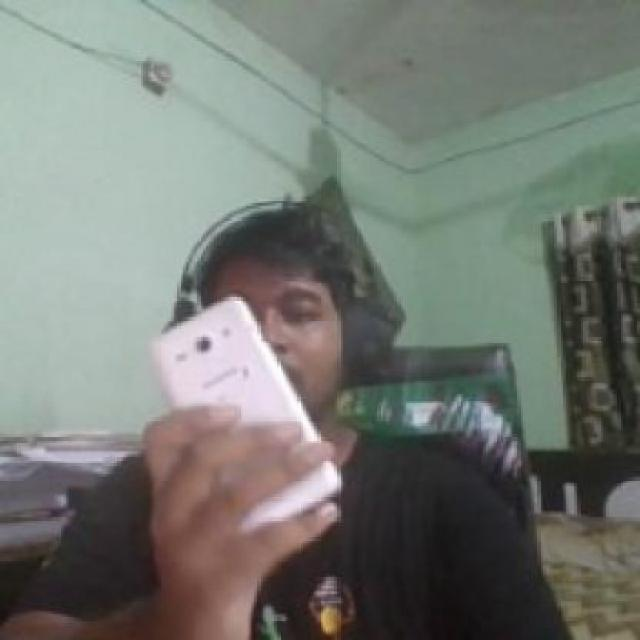Phone: (145, 293, 345, 528)
